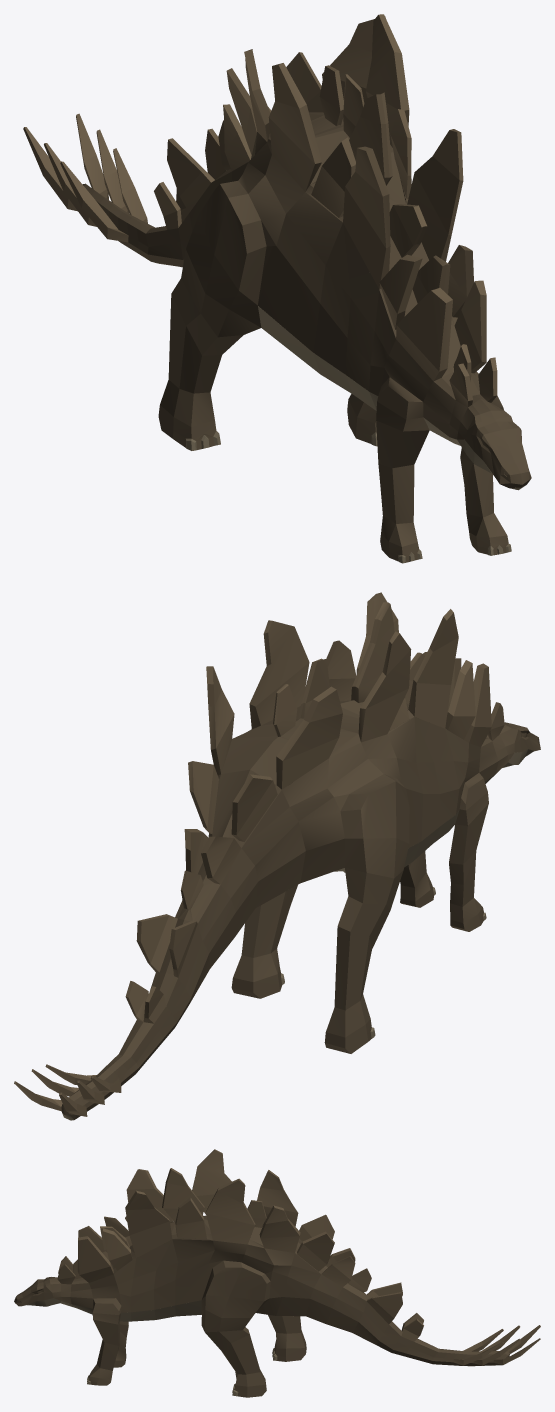
File: dino-stegosaurus.glb
3 views of the same model, one above another, from view 1: azimuth 30°, elevation 25°; view 2: azimuth 150°, elevation 25°; view 3: azimuth 270°, elevation 25° (orthographic). The views are drawn at different scales.
Visible parts, largest first — view 1: Cylinder, Cylinder_2, Cylinder_1; view 2: Cylinder, Cylinder_2, Cylinder_1; view 3: Cylinder, Cylinder_2, Cylinder_1.
Boxes of the visible parts, x1,y1,x2,y2 form: Cylinder: [82, 112, 531, 562]; Cylinder_2: [23, 14, 497, 407]; Cylinder_1: [154, 262, 525, 563]; Cylinder: [61, 700, 540, 1119]; Cylinder_2: [14, 592, 504, 1116]; Cylinder_1: [62, 749, 537, 1120]; Cylinder: [14, 1215, 510, 1397]; Cylinder_2: [57, 1149, 540, 1365]; Cylinder_1: [27, 1298, 502, 1396].
Bounding box in the file's own units: 1.93 × 3.91 × 8.76.
